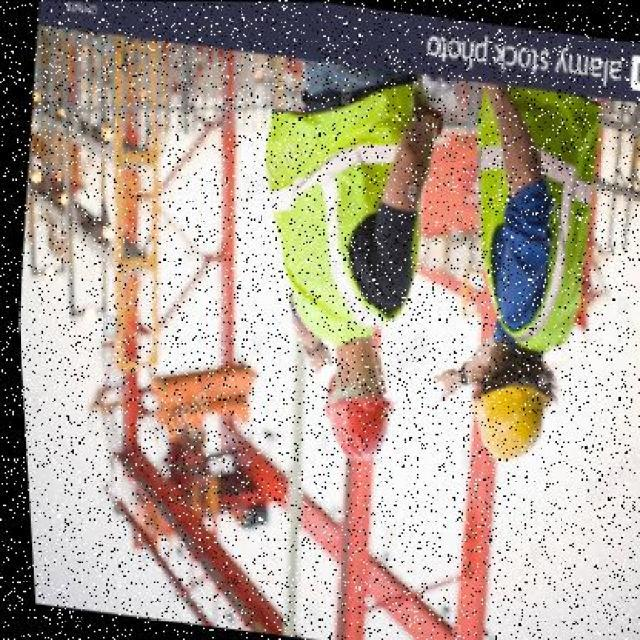helmet: (451, 369, 554, 469), (306, 383, 400, 465)
vest: (431, 74, 612, 360), (239, 79, 421, 354)
